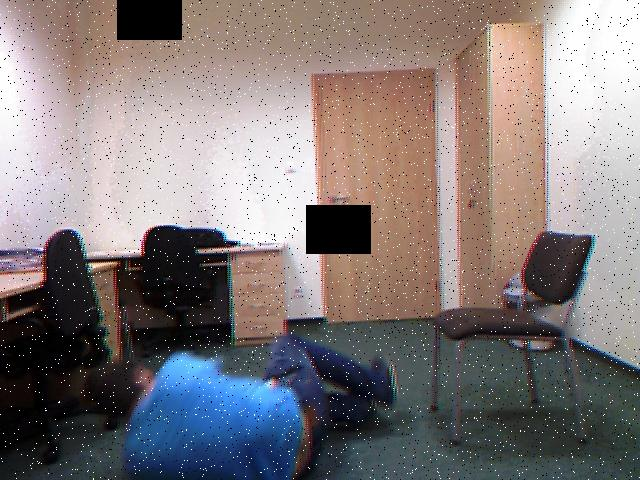fall: (75, 322, 418, 480)
